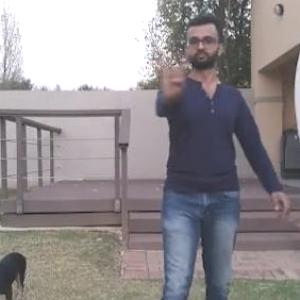takeoff-hand: (156, 44, 188, 103)
